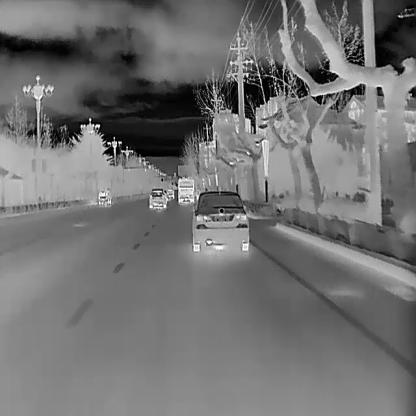bus: (178, 178, 194, 203)
car: (192, 190, 248, 252), (149, 188, 168, 208), (98, 188, 111, 204), (167, 188, 174, 200)
